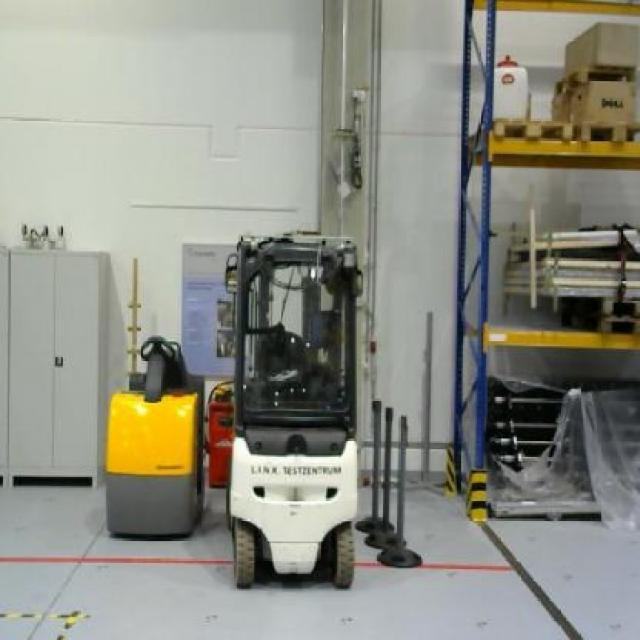box: (550, 81, 639, 130), (566, 22, 640, 75)
